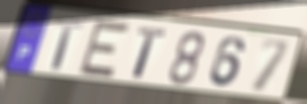6: (209, 36, 246, 89)
7: (249, 38, 292, 94)
8: (168, 29, 205, 86)
E: (75, 19, 133, 80)
T: (130, 26, 169, 81), (51, 18, 85, 72)
